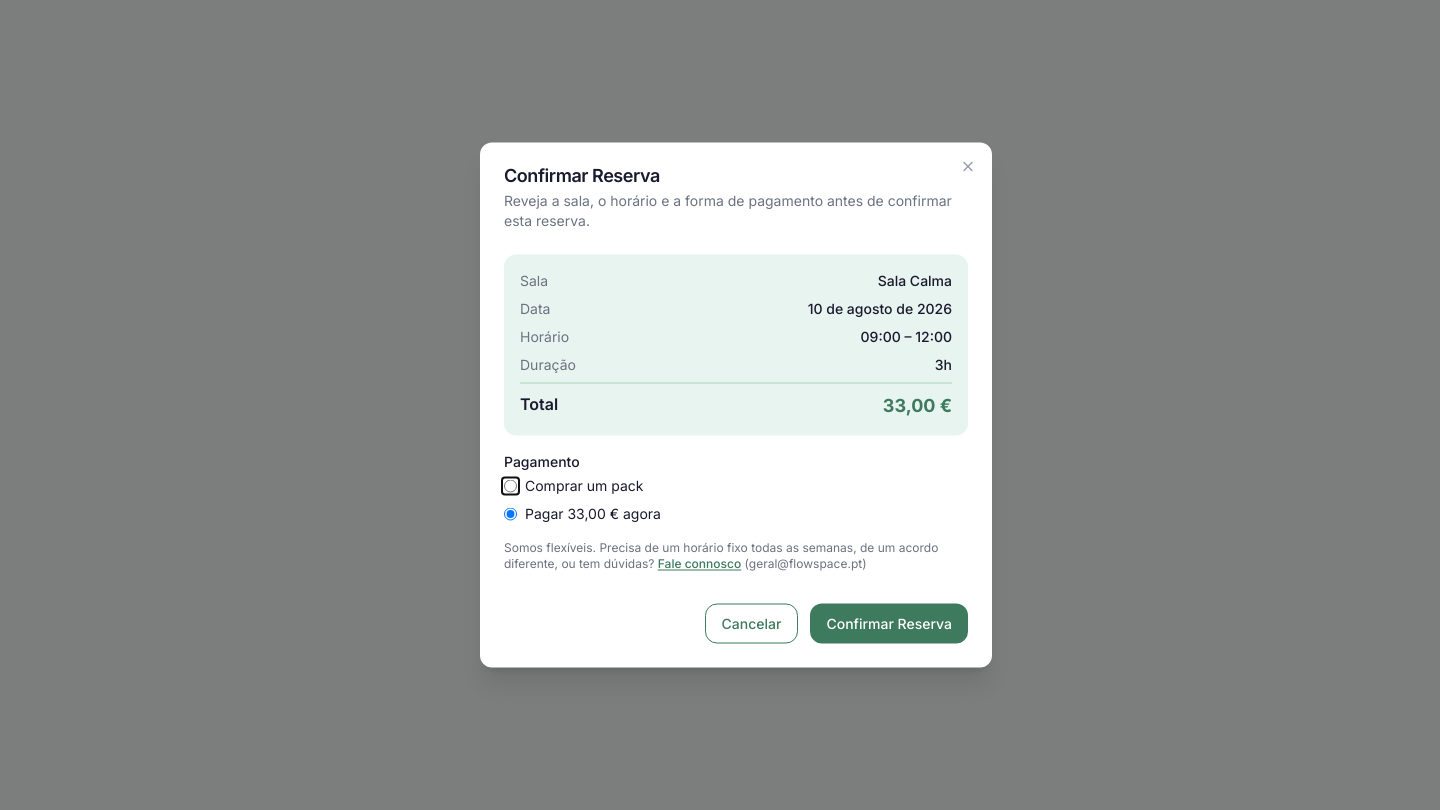
BookingModal checkout › keeps the generic error for failures that are not conflicts
The image size is (1440, 810).
Click the button "Confirmar Reserva" at [889, 624], box [810, 604, 968, 644]
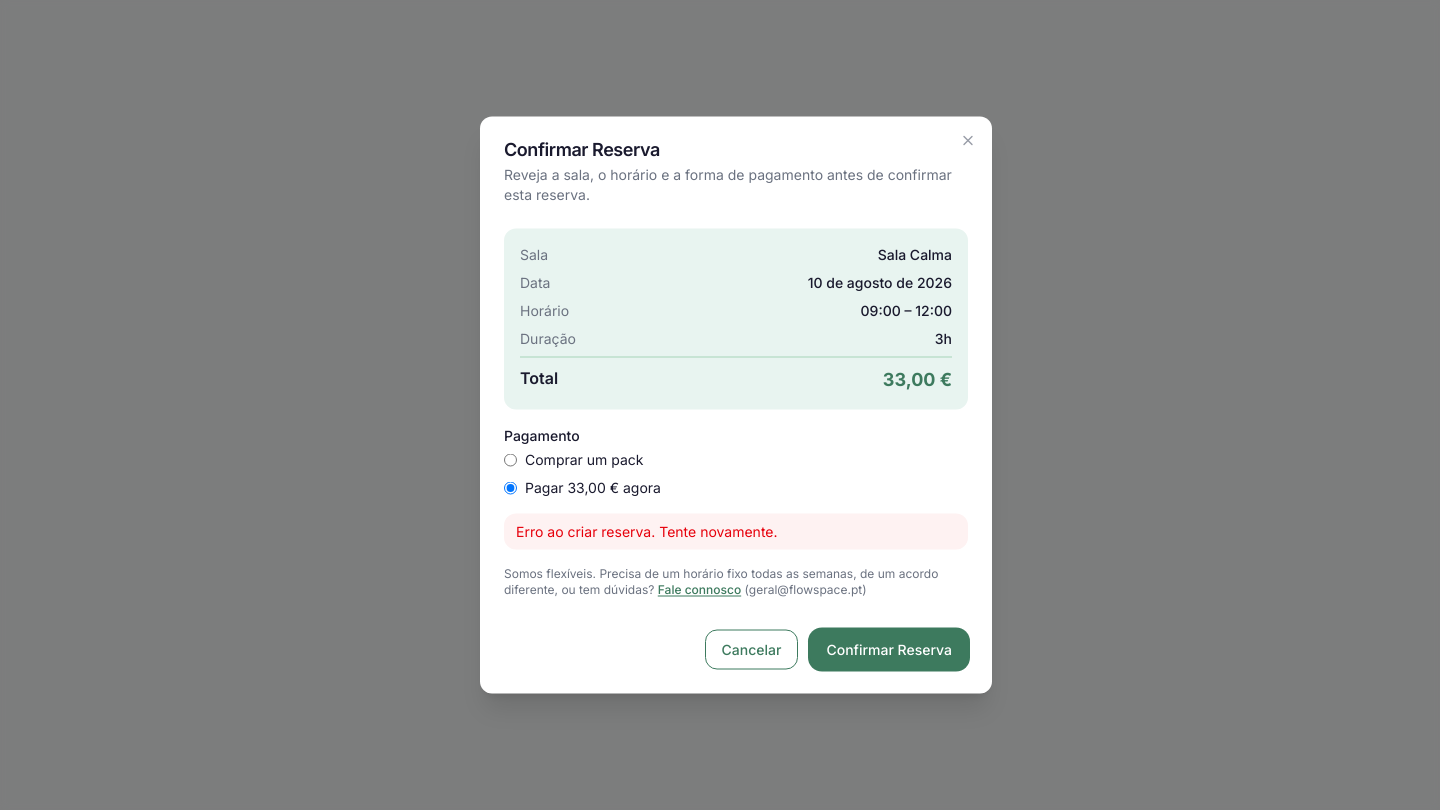
expect the message shows "Erro ao criar reserva": met, box [516, 522, 778, 540]
